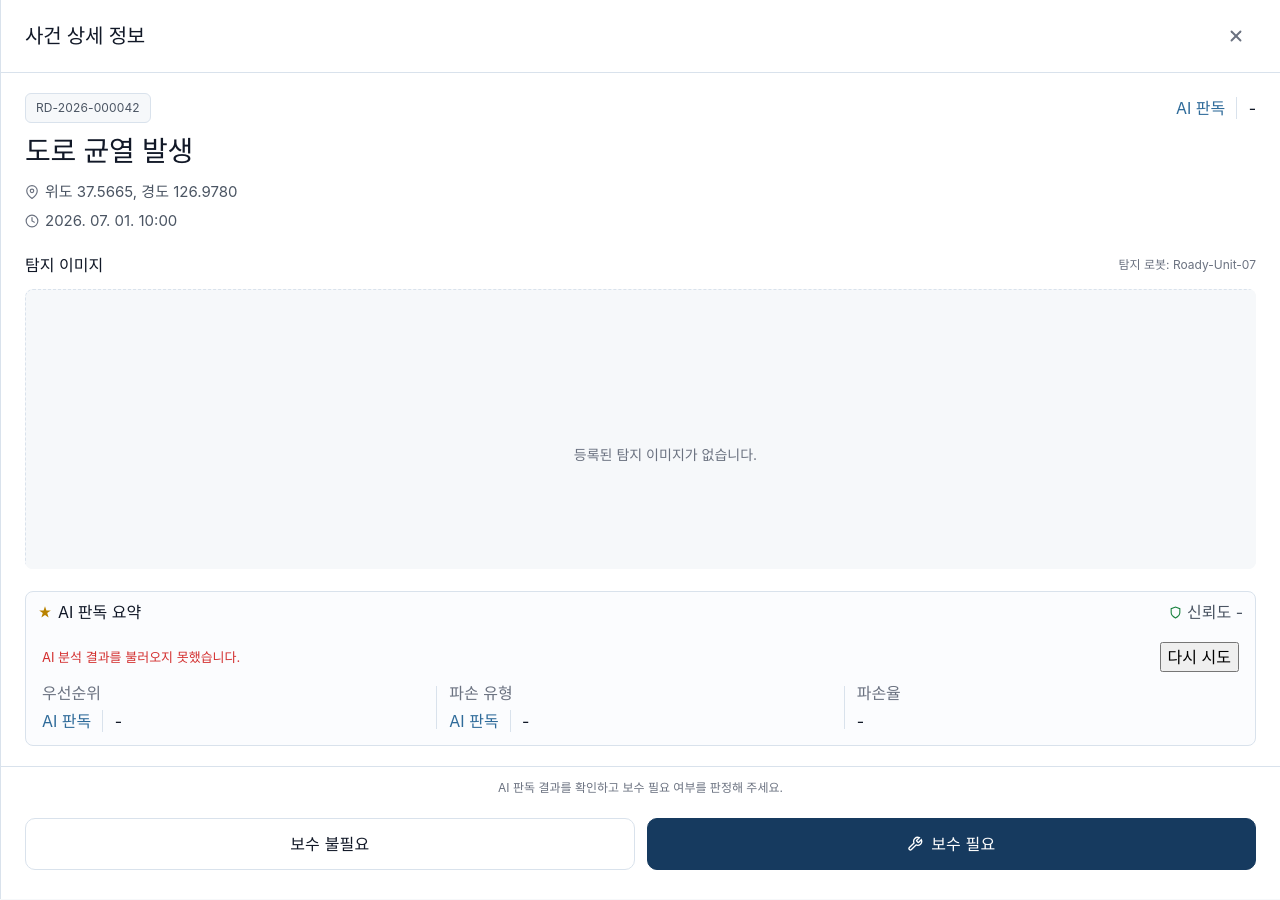
Test: DamageDetailPanel › AI 분석 재시도 성공 시 분석 결과를 표시한다
Click the button with test id "analysis-retry-btn". click: (1199, 657)
box: [1160,642,1239,672]
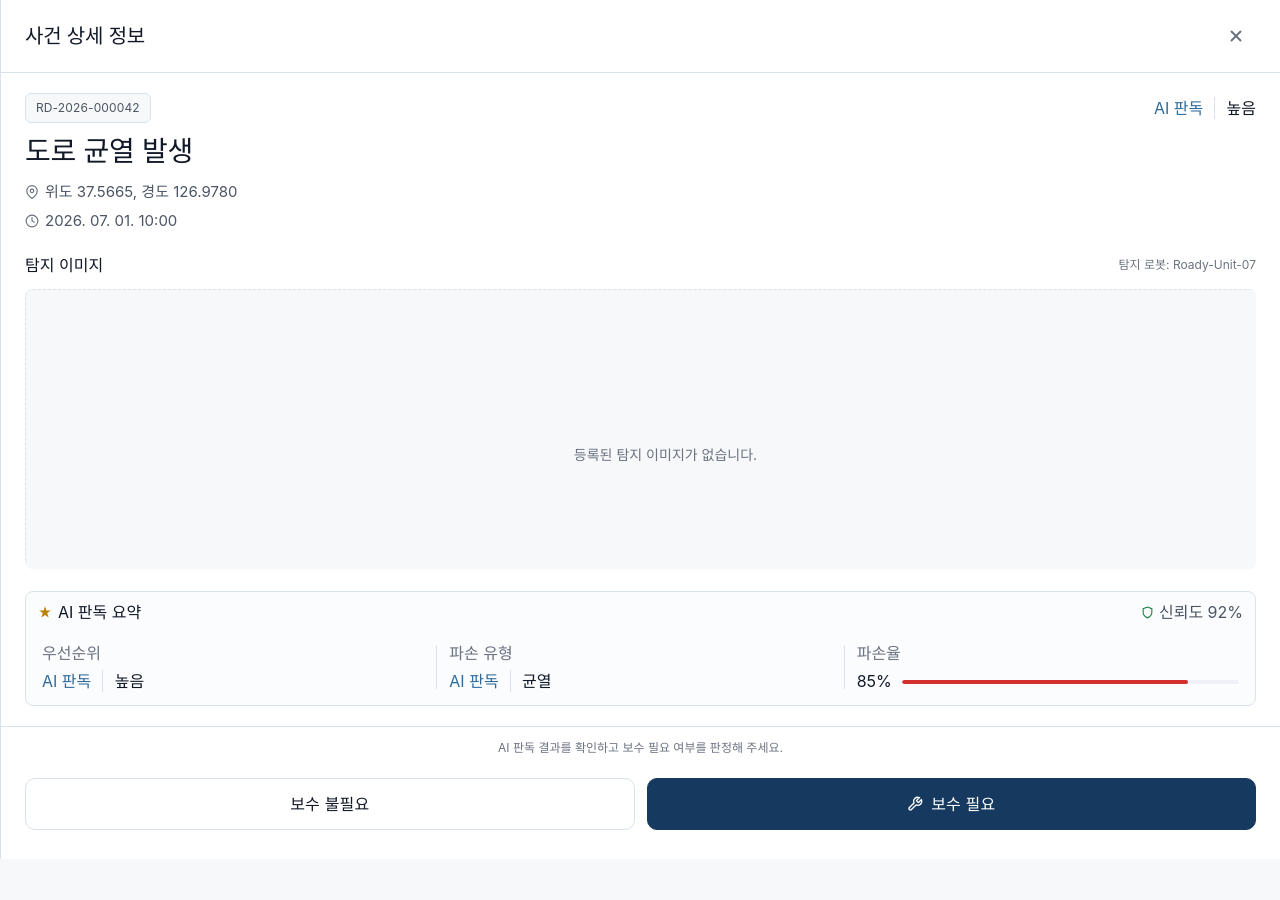
Check: the text "85%" is shown, box [857,669,892,693]
Check: the text "92%" is shown, box [1159,602,1243,622]
